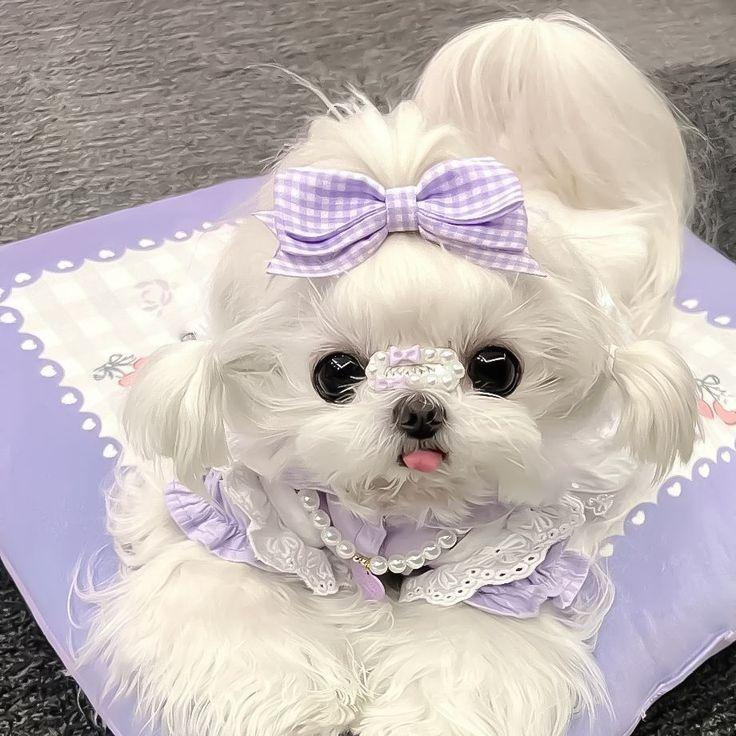non-dog: (74, 12, 707, 736)
